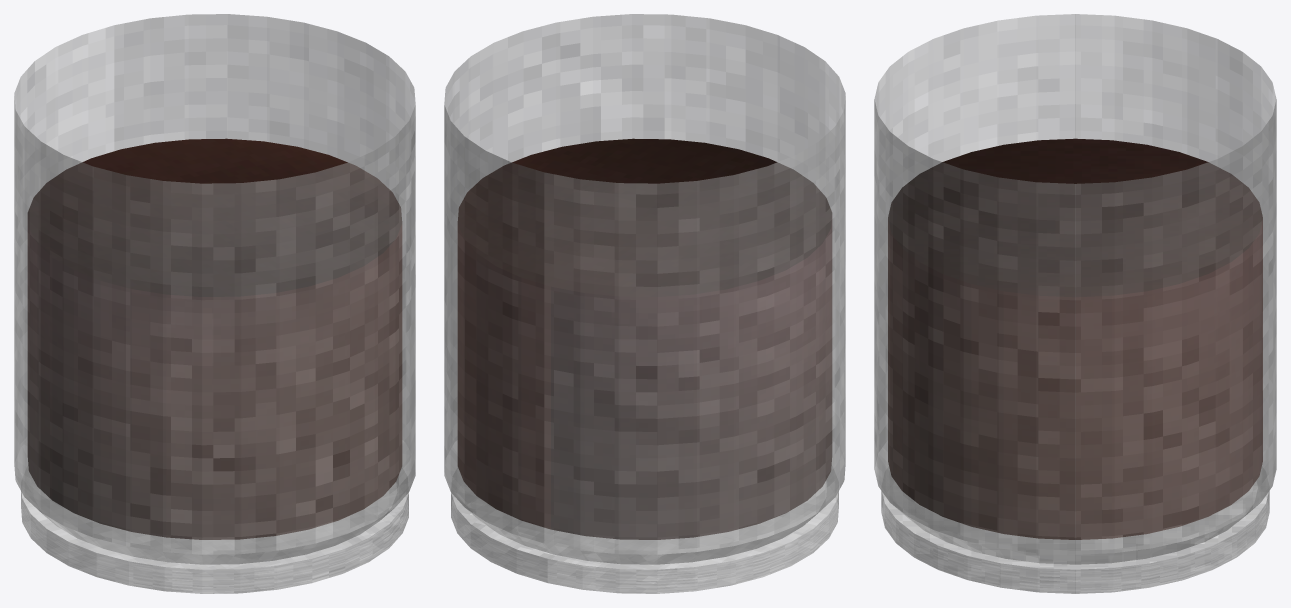
The model's file is glass.glb.
3 views of the same model, side by side, from view 1: azimuth 30°, elevation 25°; view 2: azimuth 150°, elevation 25°; view 3: azimuth 270°, elevation 25° (orthographic).
Parts seen in each view (by area): view 1: Cylinder.001, Cylinder; view 2: Cylinder.001, Cylinder; view 3: Cylinder.001, Cylinder.
Part boxes in pixels (x1=…): Cylinder.001: x1=14, y1=14, x2=415, y2=593; Cylinder: x1=27, y1=138, x2=402, y2=539; Cylinder.001: x1=444, y1=14, x2=845, y2=593; Cylinder: x1=457, y1=138, x2=832, y2=539; Cylinder.001: x1=874, y1=14, x2=1276, y2=593; Cylinder: x1=888, y1=138, x2=1262, y2=539.
Size of the model in its own units: 1.5 by 1.7 by 1.5.
Materials: 2 (2 with a texture image).
